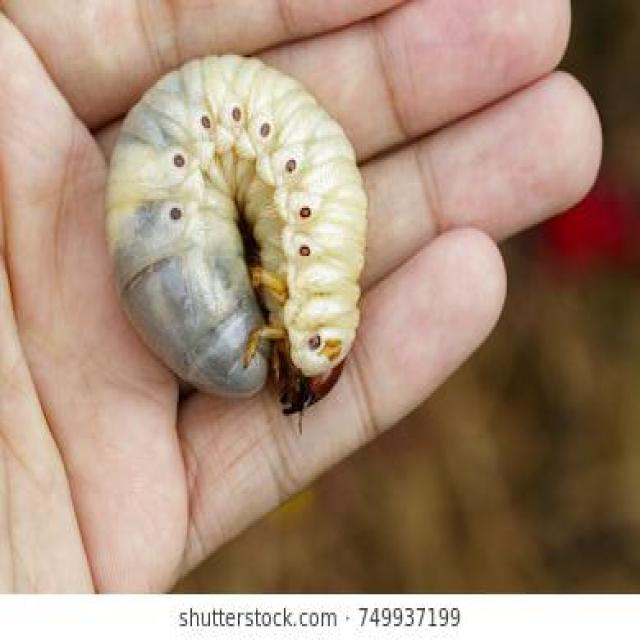Grub-Adult-: (82, 33, 356, 411)
